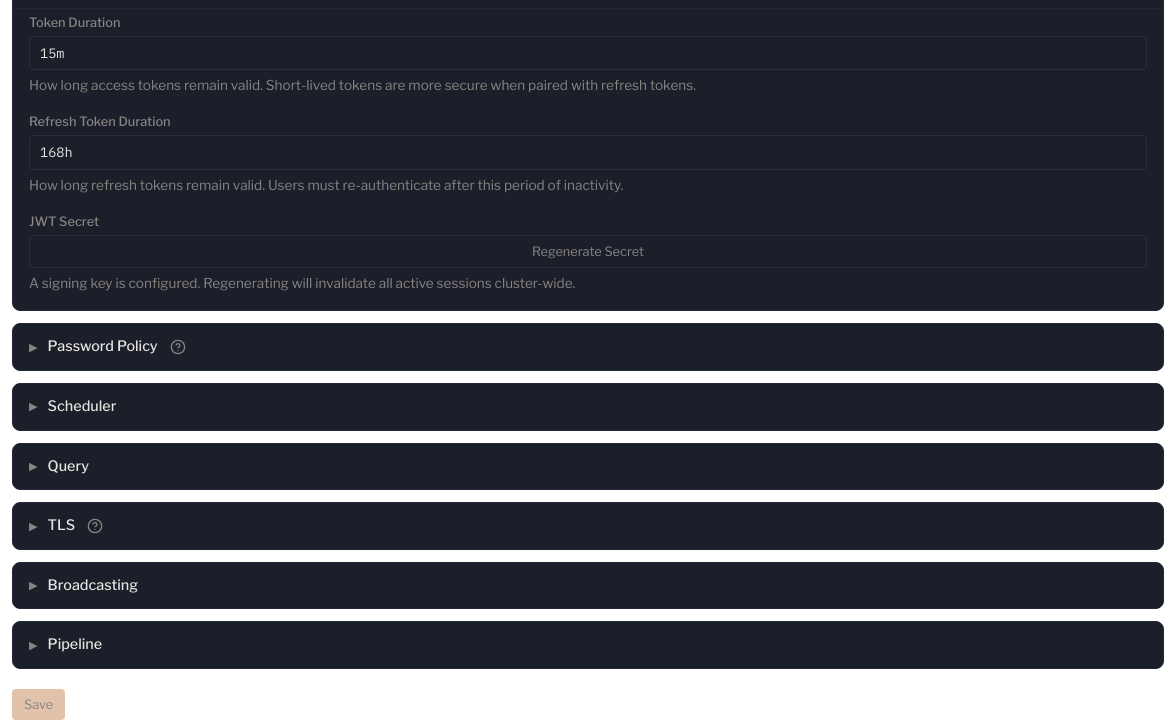
Scenario: ServiceSettings › the animal-noise rule says what the server rejects
(page scrolled)
Click the text "Password Policy" at (103, 347), box [48,336,158,358]
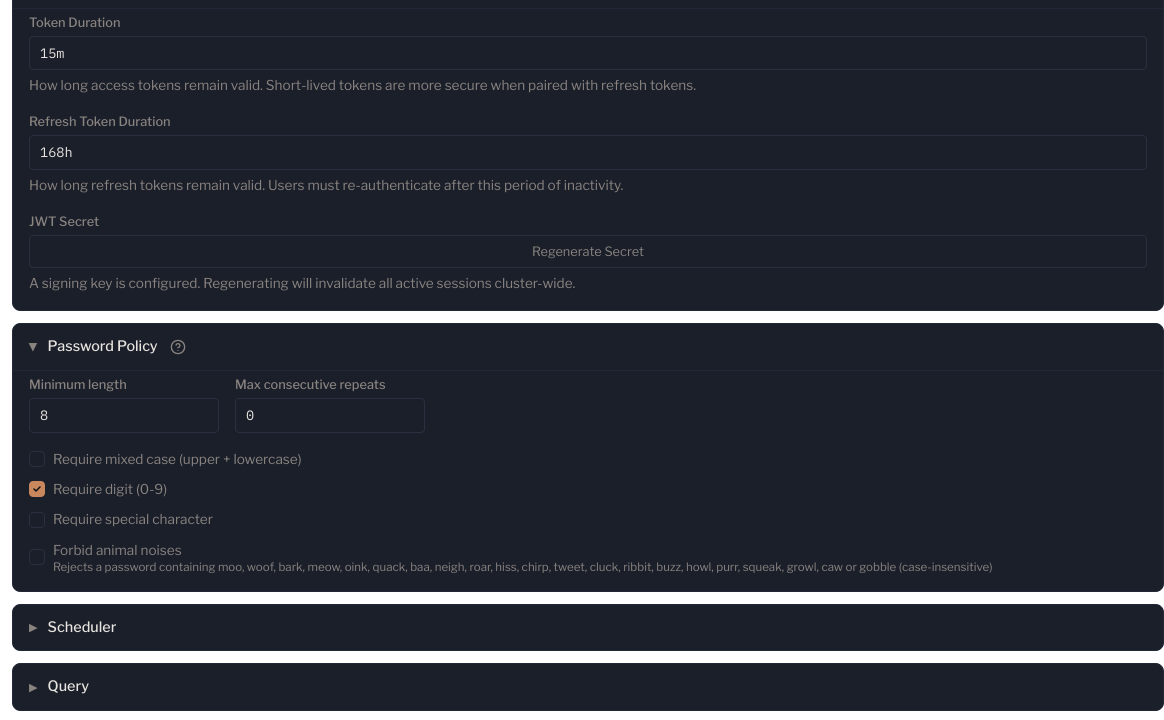
Check: the text "Forbid animal noises" is shown, box [53,542,182,558]
Check: the text "caw or gobble (case-insensitive)" is shown, box [53,560,992,574]
